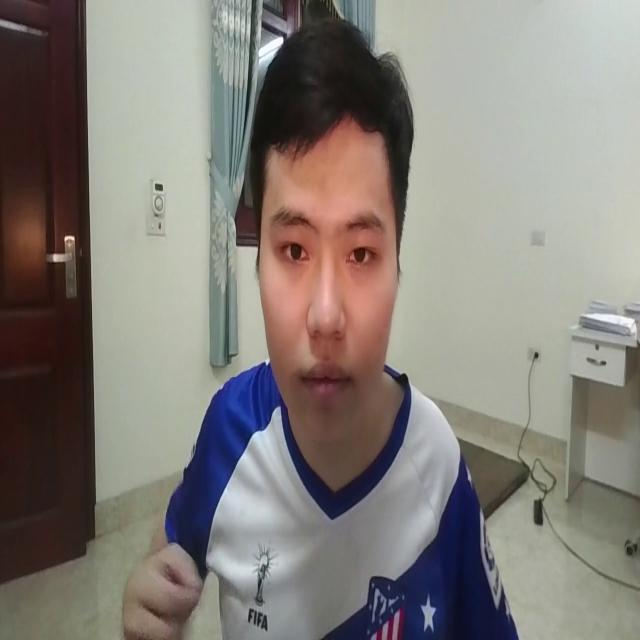student: (125, 2, 523, 640)
